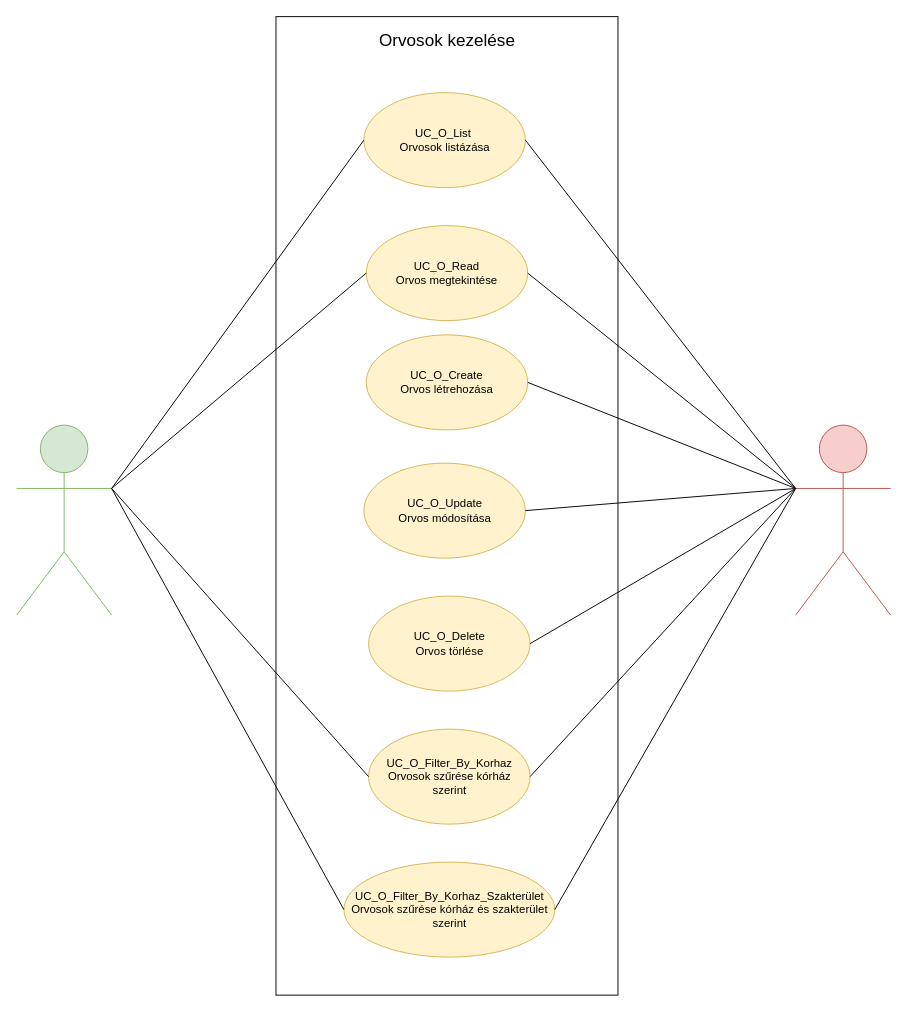
The diagram is 914 pixels wide and 1012 high, and some of its shapes have lost their labels. Each missing label, with the centre of its shape:
Adminisztrátor: [843,519]
Látogató: [64,519]
